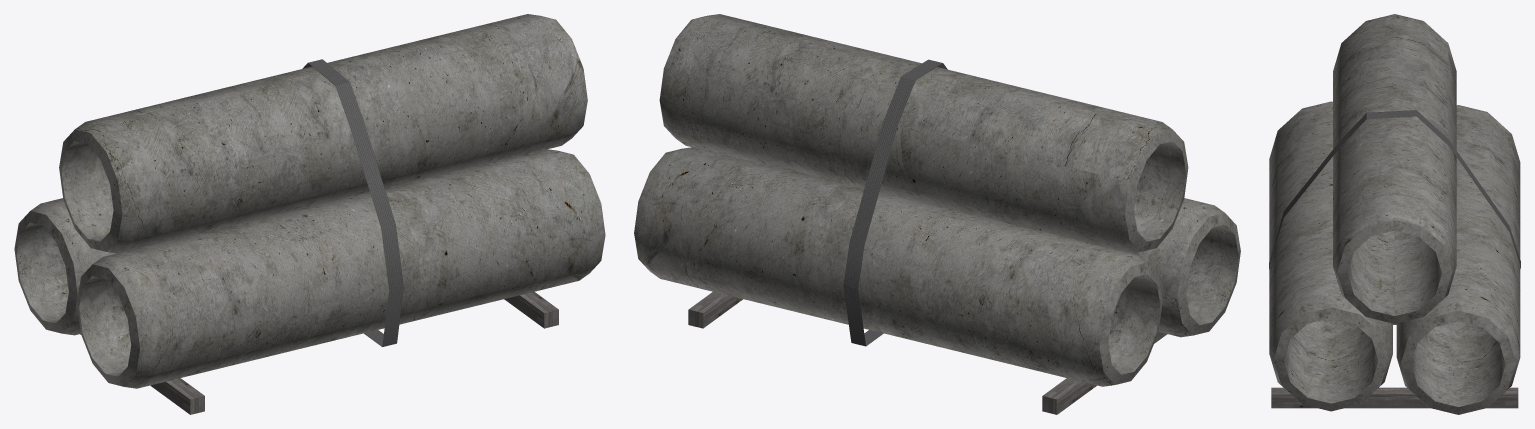
Rendered from TubeGroup01.FBX.
3 renders of one model, left to right at view 1: azimuth 30°, elevation 25°; view 2: azimuth 150°, elevation 25°; view 3: azimuth 270°, elevation 25°, orthographic. The views are drawn at different scales.
Visible parts, largest first — view 1: TubeGroup01; view 2: TubeGroup01; view 3: TubeGroup01.
Part boxes in pixels (x1,y1,x2,y2): TubeGroup01: (14,14,605,414); TubeGroup01: (634,14,1240,414); TubeGroup01: (1269,14,1520,414).
Bounding box in the file's own units: 272 × 130 × 134.
